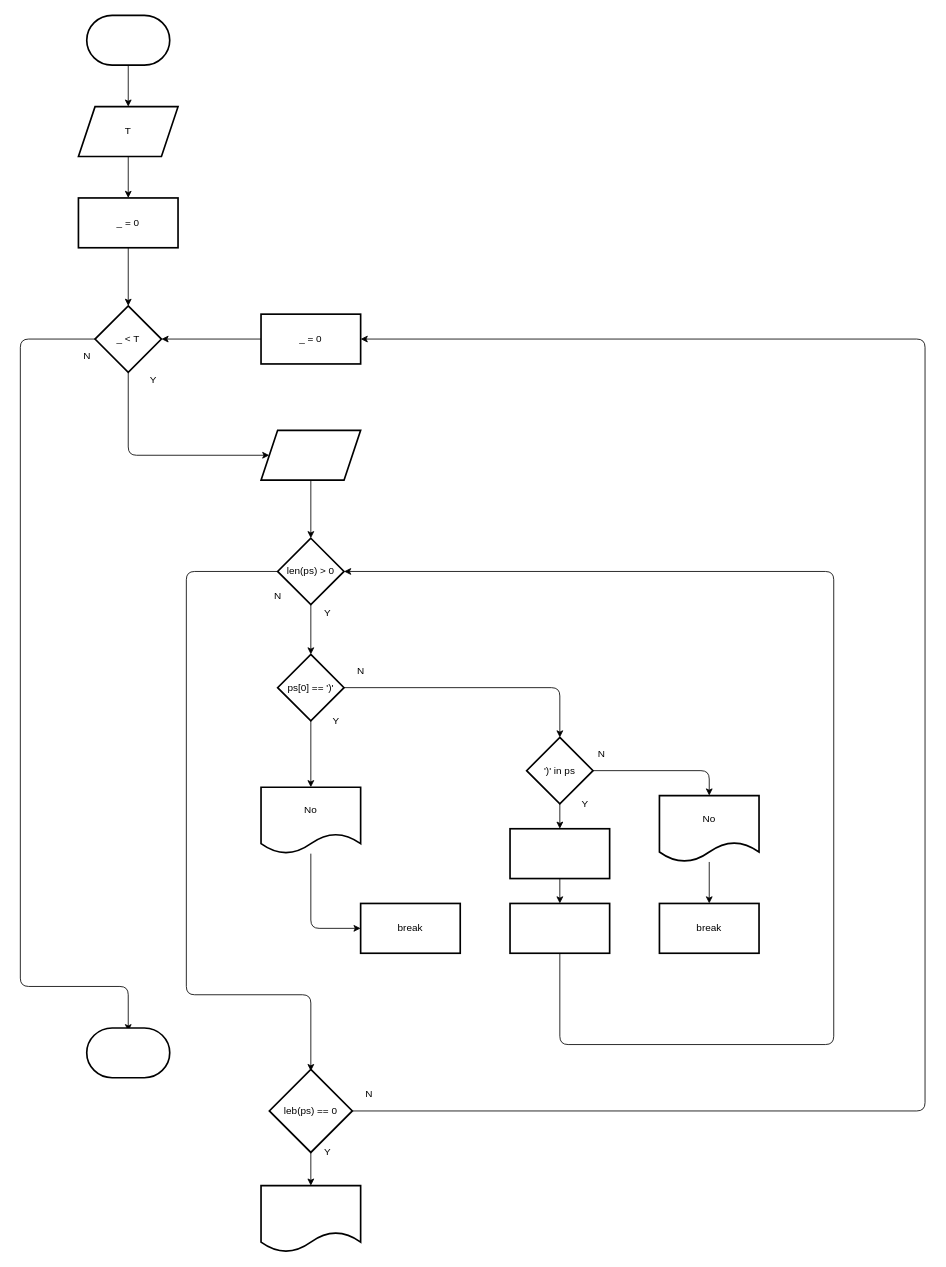
The diagram is 946 pixels wide and 1267 high, and some of its shapes have lost their labels. Each missing label, with the centre of its shape:
finish: [127,1052]
ps: [310,455]
ps.remove('('): [559,928]
ps.remove(')'): [559,853]
start: [127,40]
Yes: [310,1218]
